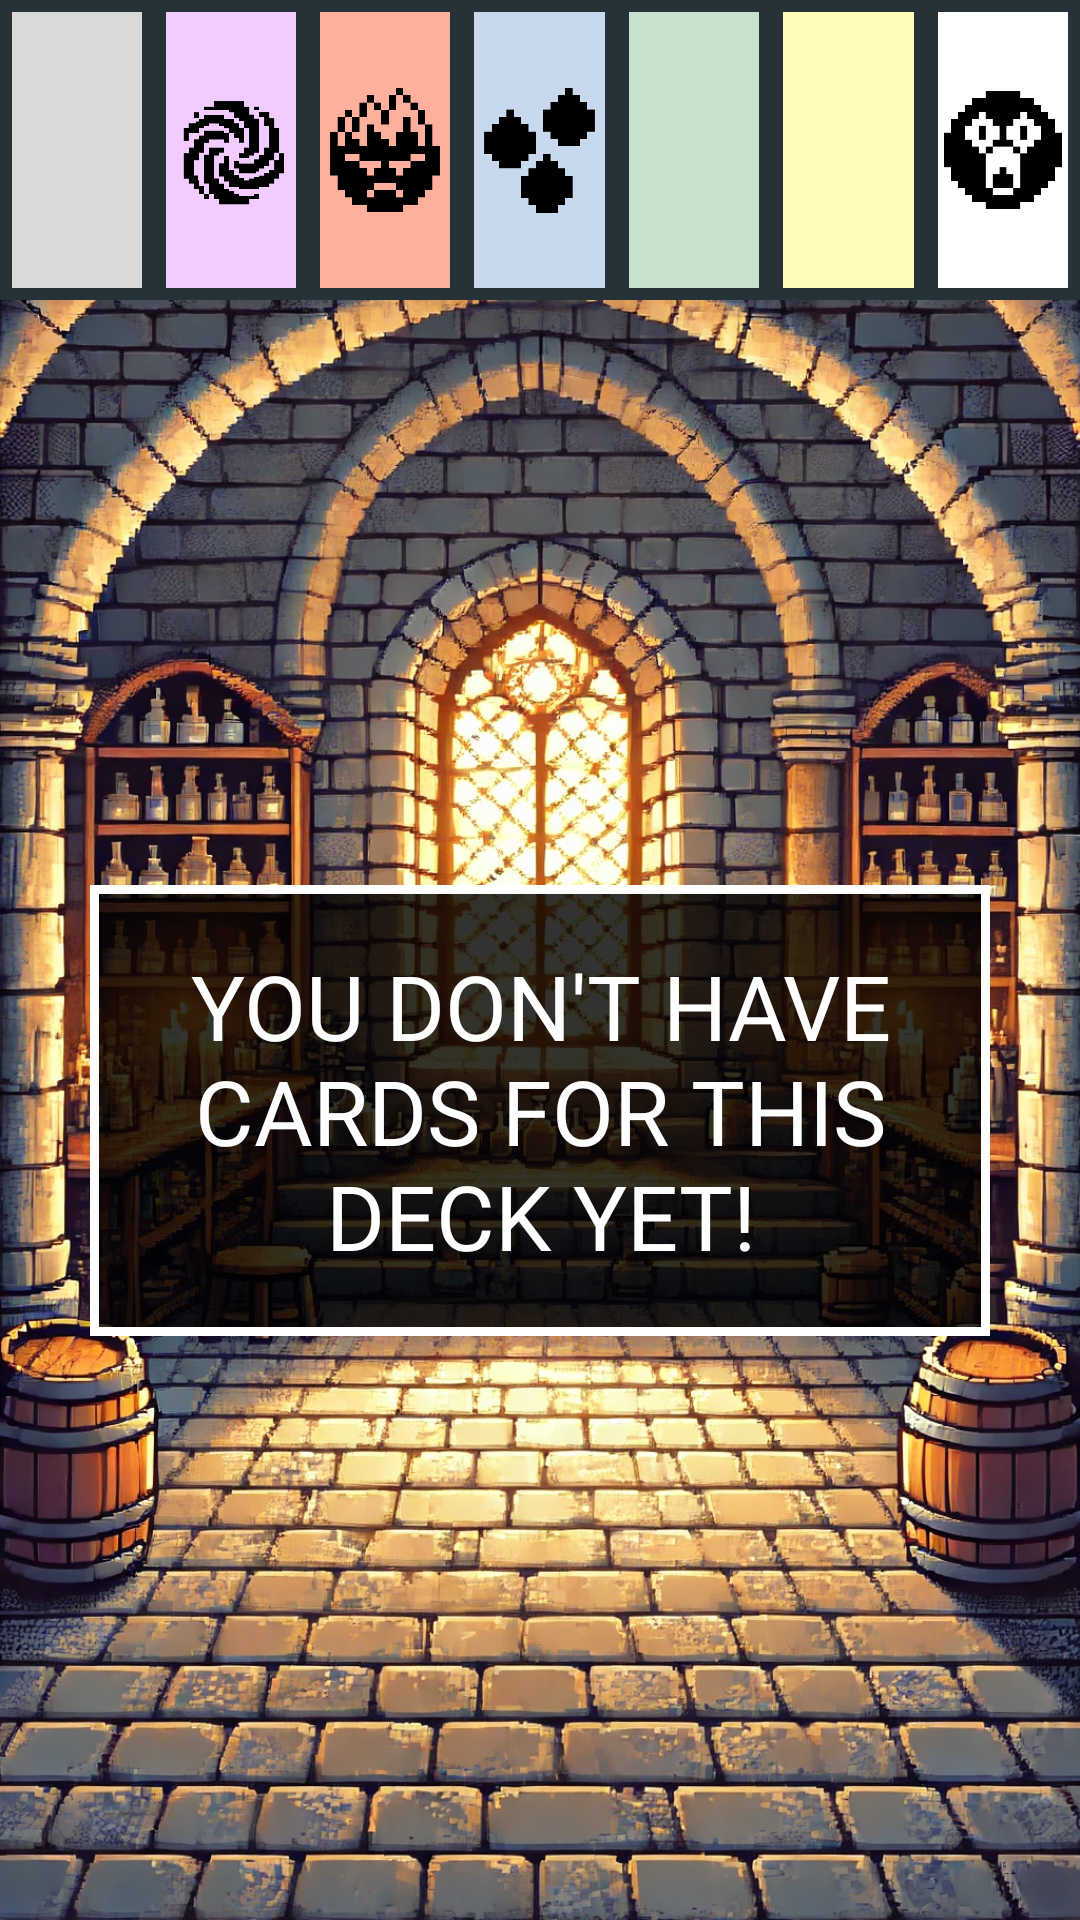

Point at icon controls on the screen. Image size 1080w x 1920h, points as (x,y).
anger: (385,150)
sadness: (539,150)
surprise: (1003,150)
